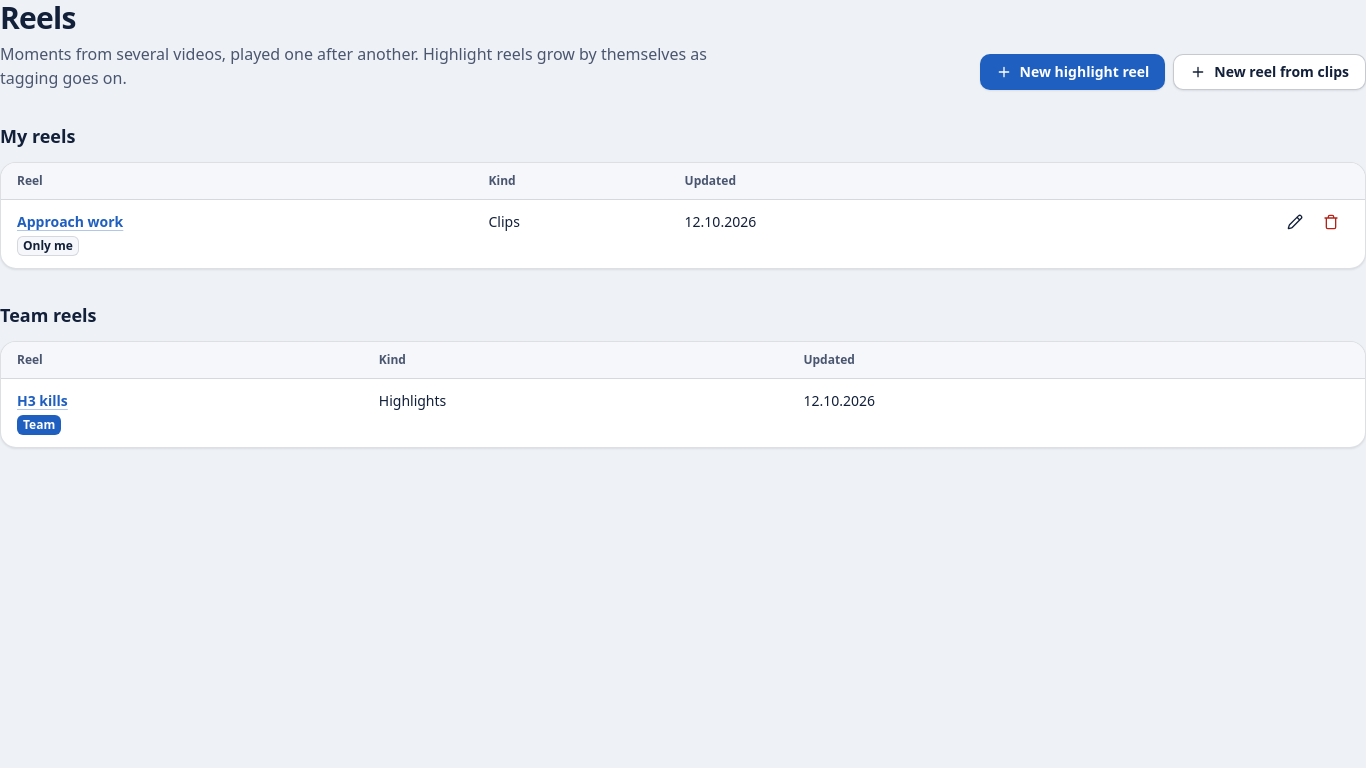
Test: ReelsPage › lists my reels and the team’s; only mine can be edited or deleted
Expected: the link "H3 kills" is shown, x1=17 y1=391 x2=68 y2=410
Click the button named "Delete Approach work": (1331, 222) x1=1313 y1=204 x2=1349 y2=240
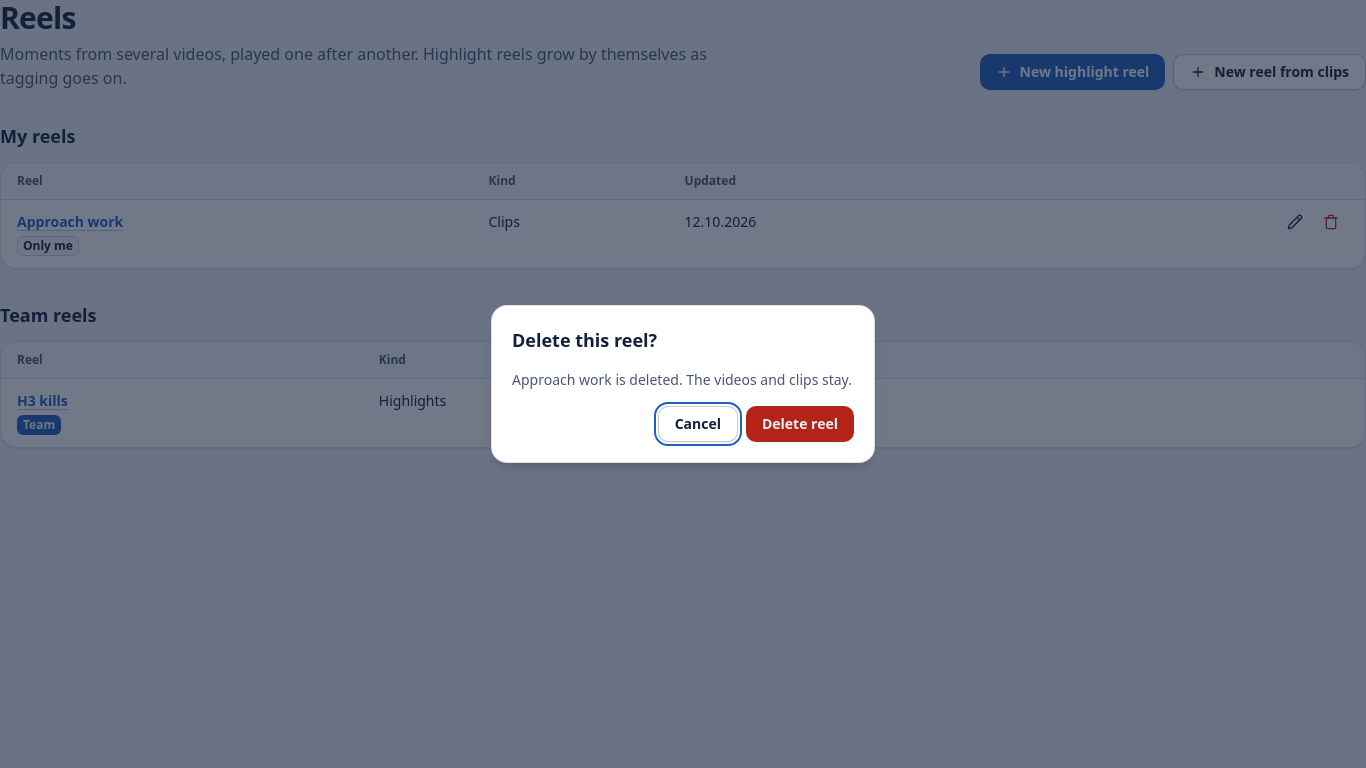
Click the button "Delete reel": (800, 424) x1=746 y1=406 x2=854 y2=442
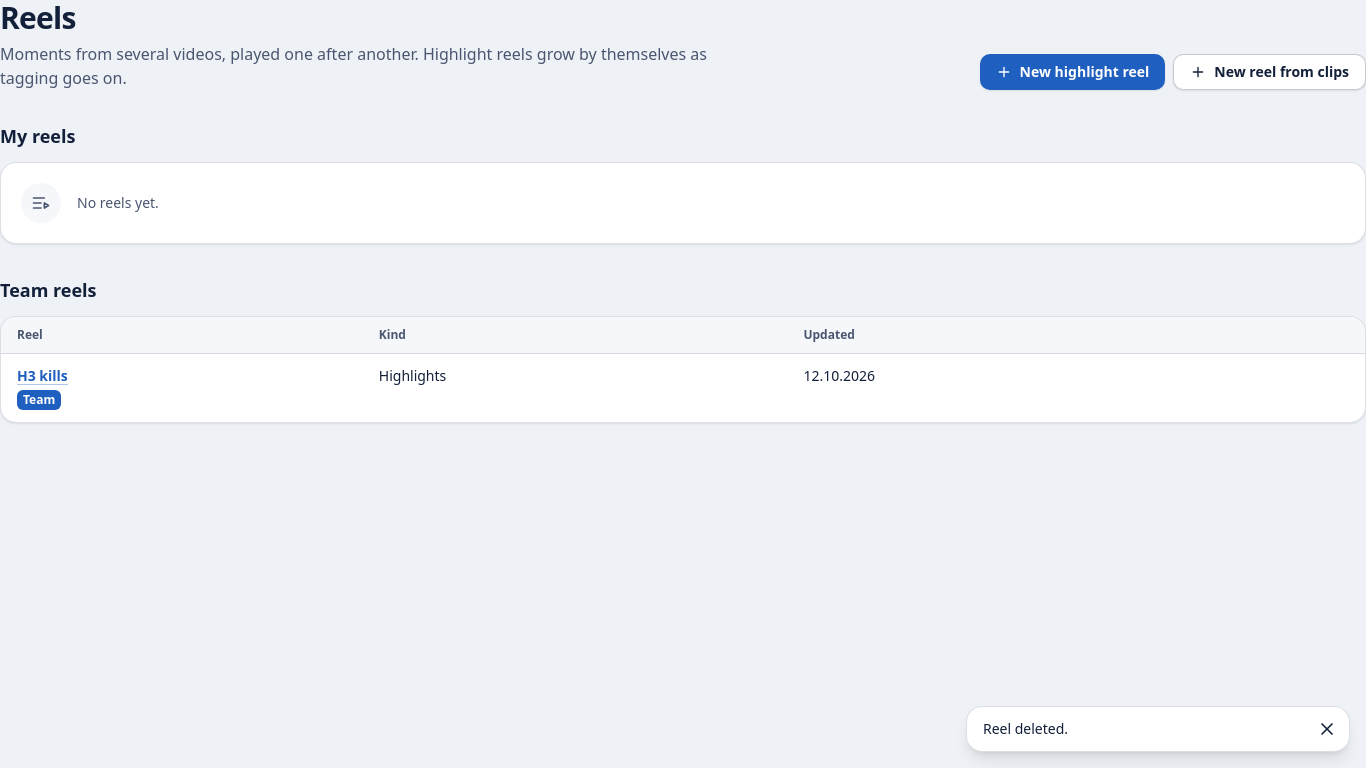
Now the text "No reels yet." is shown, box x1=77 y1=193 x2=159 y2=212
